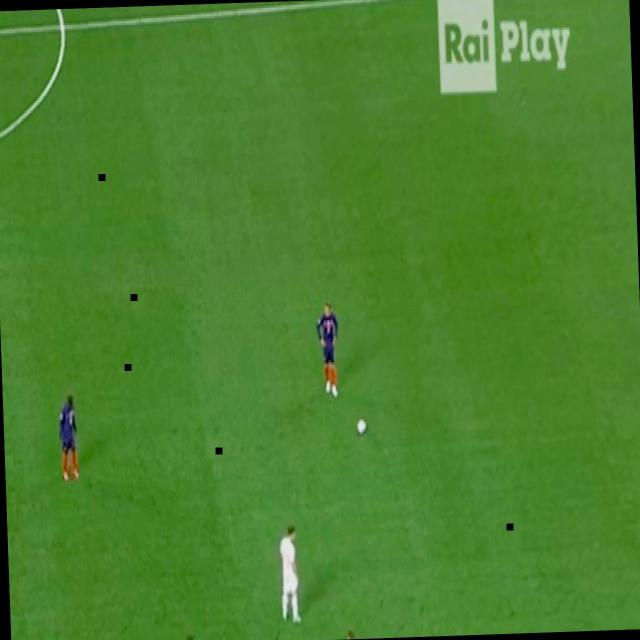ball: (354, 416, 368, 436)
player-white: (313, 298, 343, 402), (276, 521, 304, 627), (55, 390, 81, 484), (338, 622, 362, 640), (170, 630, 203, 640)
